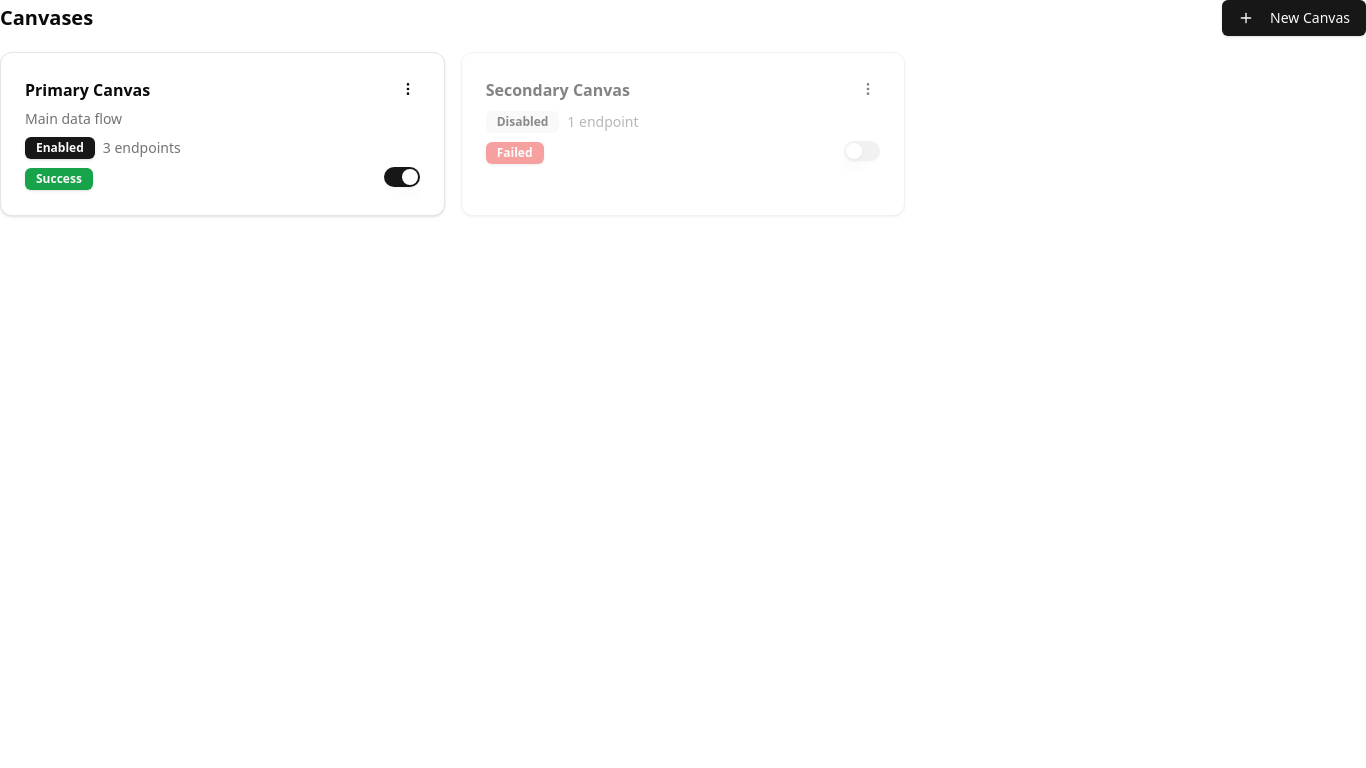
Scenario: CanvasGrid — MC-07: Create canvas dialog › opens create canvas dialog when New Canvas button is clicked
The width and height of the screenshot is (1366, 768).
Click the button "New Canvas".
click(1294, 18)  # box x1=1222 y1=0 x2=1365 y2=36
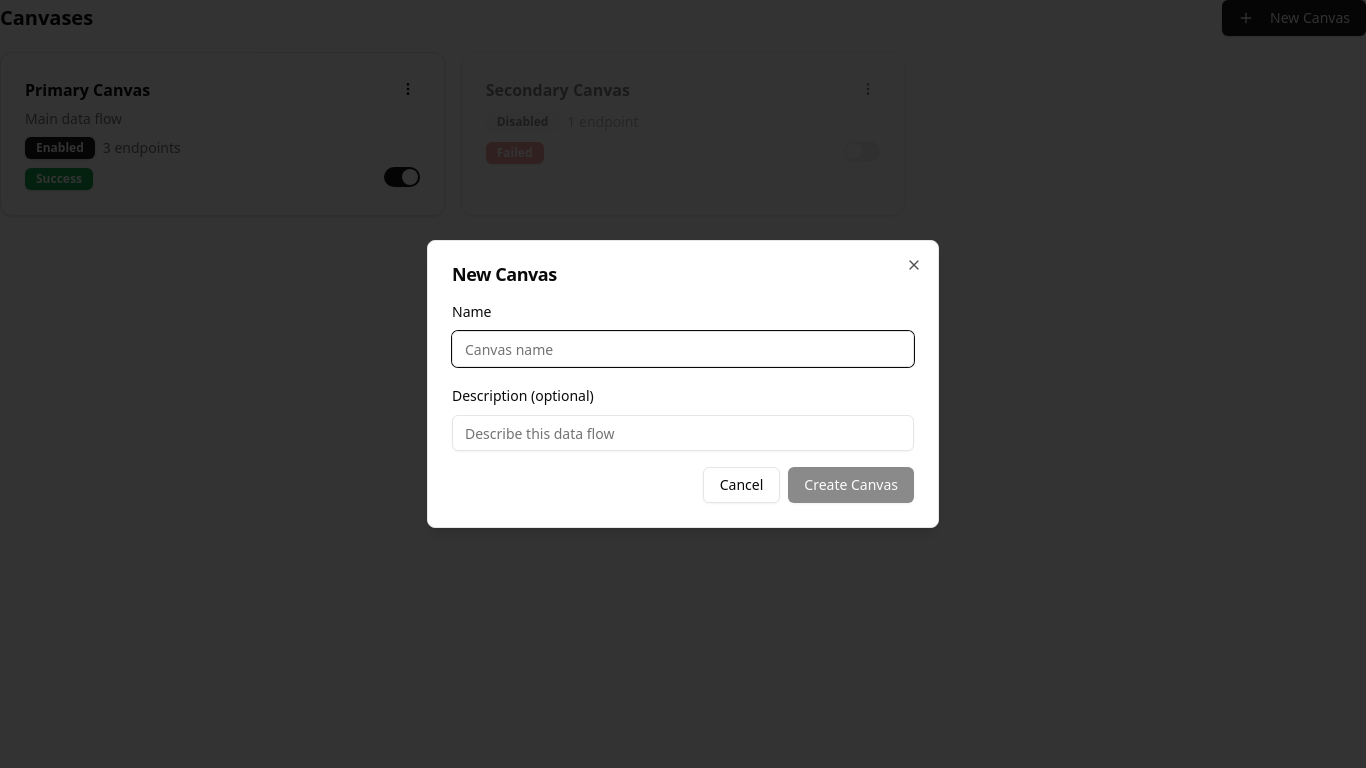
Result: the field labelled "Name" is shown at x1=452 y1=331 x2=914 y2=367
